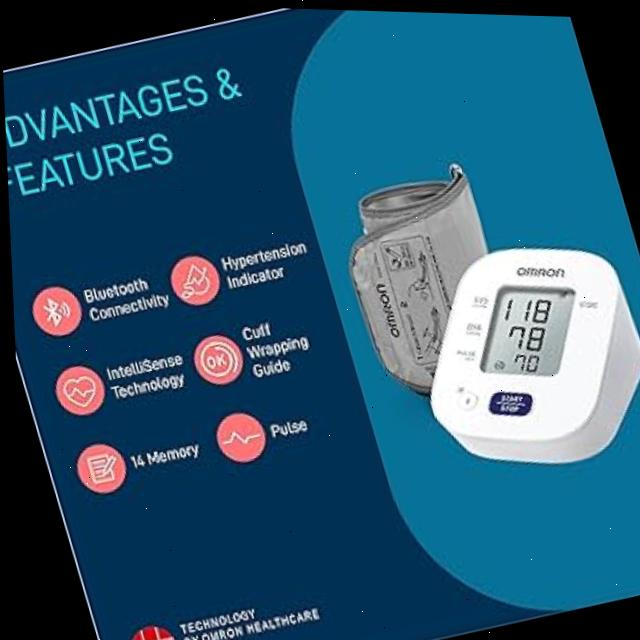dia: (495, 319, 544, 349)
pul: (501, 342, 539, 373)
ssd: (477, 269, 574, 384)
sys: (492, 291, 553, 321)
